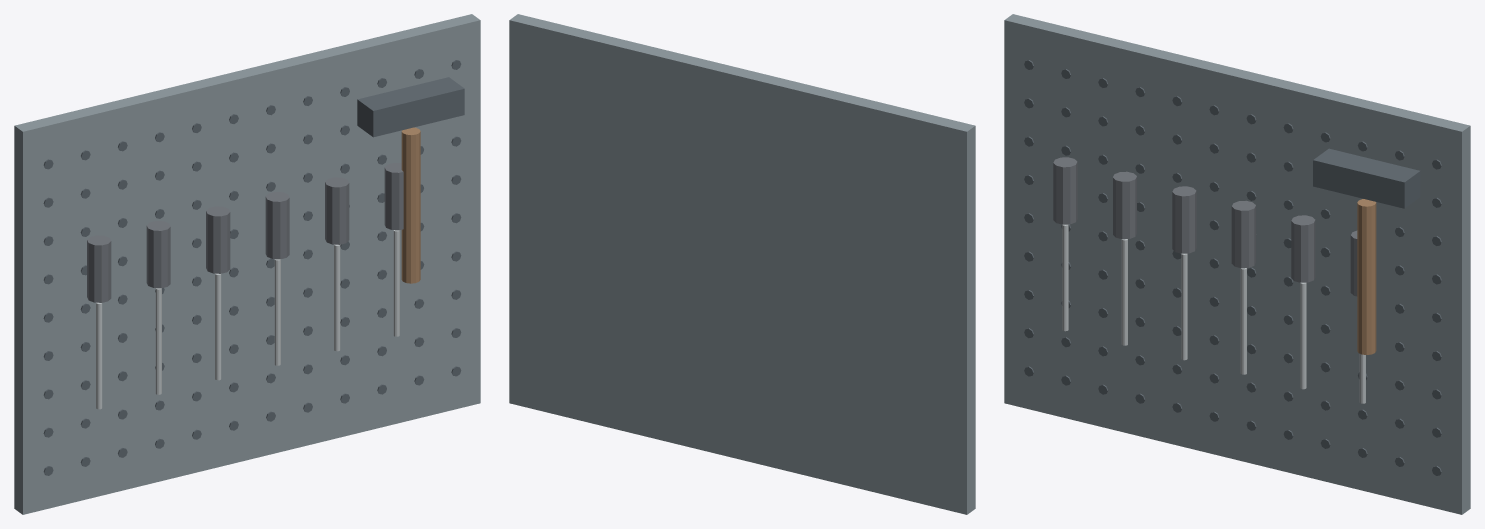
3 renders of one model, left to right at view 1: azimuth 30°, elevation 25°; view 2: azimuth 150°, elevation 25°; view 3: azimuth 330°, elevation 25°, orthographic.
Parts seen in each view (by area): view 1: TH-018__000__Powder-coated metal perforated board, TH-018__122__Hammer double head, TH-018__121__Hammer shaft, TH-018__110__Screwdriver handle, TH-018__114__Screwdriver handle, TH-018__112__Screwdriver handle, TH-018__118__Screwdriver handle, TH-018__116__Screwdriver handle, TH-018__120__Screwdriver handle, TH-018__117__Hanging screwdriver barrel, TH-018__109__Hanging screwdriver barrel, TH-018__113__Hanging screwdriver barrel (+3 smaller); view 2: TH-018__000__Powder-coated metal perforated board; view 3: TH-018__000__Powder-coated metal perforated board, TH-018__122__Hammer double head, TH-018__121__Hammer shaft, TH-018__110__Screwdriver handle, TH-018__114__Screwdriver handle, TH-018__118__Screwdriver handle, TH-018__116__Screwdriver handle, TH-018__112__Screwdriver handle, TH-018__117__Hanging screwdriver barrel, TH-018__113__Hanging screwdriver barrel, TH-018__109__Hanging screwdriver barrel, TH-018__111__Hanging screwdriver barrel (+1 smaller).
Part boxes in pixels (left/top/right/bottom): TH-018__000__Powder-coated metal perforated board: left=14, top=14, right=480, bottom=514; TH-018__122__Hammer double head: left=357, top=77, right=464, bottom=137; TH-018__121__Hammer shaft: left=401, top=127, right=420, bottom=283; TH-018__110__Screwdriver handle: left=87, top=235, right=111, bottom=302; TH-018__114__Screwdriver handle: left=206, top=206, right=230, bottom=273; TH-018__112__Screwdriver handle: left=146, top=221, right=170, bottom=288; TH-018__118__Screwdriver handle: left=325, top=177, right=349, bottom=244; TH-018__116__Screwdriver handle: left=265, top=192, right=289, bottom=259; TH-018__120__Screwdriver handle: left=384, top=163, right=403, bottom=230; TH-018__117__Hanging screwdriver barrel: left=334, top=244, right=340, bottom=351; TH-018__109__Hanging screwdriver barrel: left=96, top=302, right=102, bottom=409; TH-018__113__Hanging screwdriver barrel: left=215, top=273, right=221, bottom=380; TH-018__000__Powder-coated metal perforated board: left=509, top=14, right=975, bottom=514; TH-018__000__Powder-coated metal perforated board: left=1004, top=14, right=1470, bottom=514; TH-018__122__Hammer double head: left=1313, top=148, right=1420, bottom=208; TH-018__121__Hammer shaft: left=1357, top=199, right=1376, bottom=354; TH-018__110__Screwdriver handle: left=1053, top=157, right=1077, bottom=224; TH-018__114__Screwdriver handle: left=1172, top=186, right=1196, bottom=253; TH-018__118__Screwdriver handle: left=1291, top=215, right=1315, bottom=282; TH-018__116__Screwdriver handle: left=1231, top=200, right=1255, bottom=268; TH-018__112__Screwdriver handle: left=1113, top=171, right=1136, bottom=239; TH-018__117__Hanging screwdriver barrel: left=1300, top=282, right=1306, bottom=389; TH-018__113__Hanging screwdriver barrel: left=1181, top=253, right=1187, bottom=360; TH-018__109__Hanging screwdriver barrel: left=1062, top=224, right=1068, bottom=331; TH-018__111__Hanging screwdriver barrel: left=1121, top=239, right=1127, bottom=345.
Size of the model in its own units: 1 by 0.8 by 0.111.
